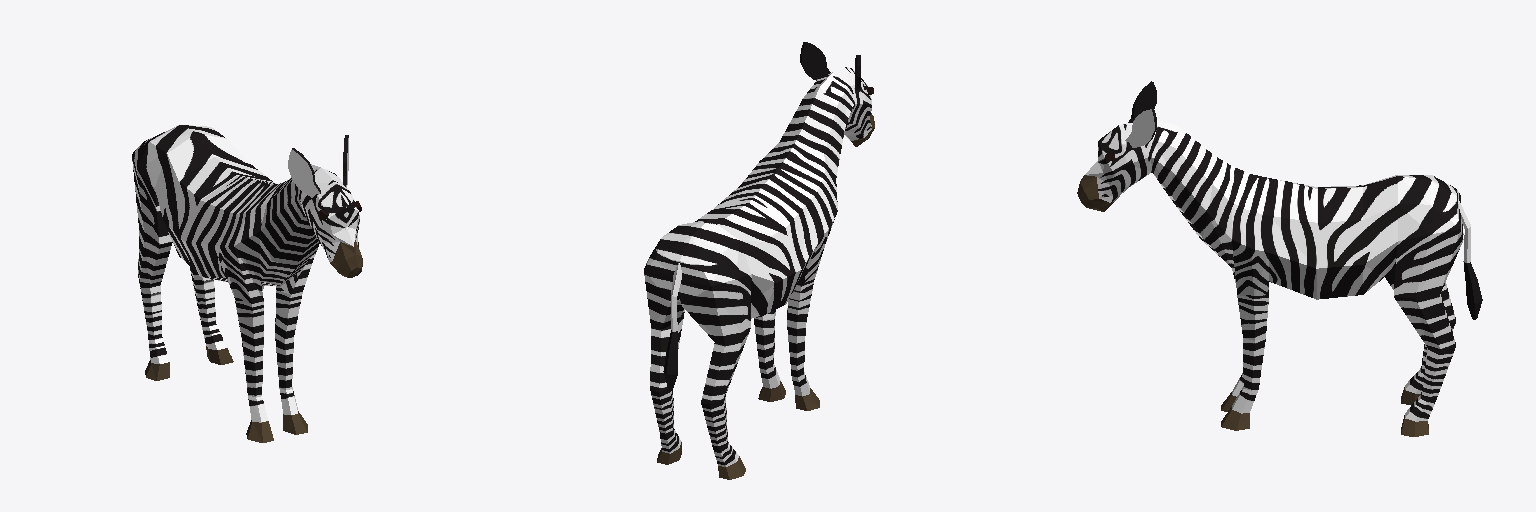
The picture shows the model from 3 angles: view 1: azimuth 30°, elevation 25°; view 2: azimuth 150°, elevation 25°; view 3: azimuth 270°, elevation 25°; orthographic projection.
Visible parts, largest first — view 1: Geo_Zebra; view 2: Geo_Zebra; view 3: Geo_Zebra.
Part boxes in pixels (x1,y1,x2,y2): Geo_Zebra: (132, 125, 362, 442); Geo_Zebra: (644, 42, 874, 479); Geo_Zebra: (1077, 81, 1482, 436).
Size of the model in its own units: 40.07 by 119 by 136.
1 materials, 1 textured.